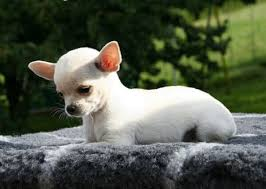chihuahua: (19, 34, 242, 156)
